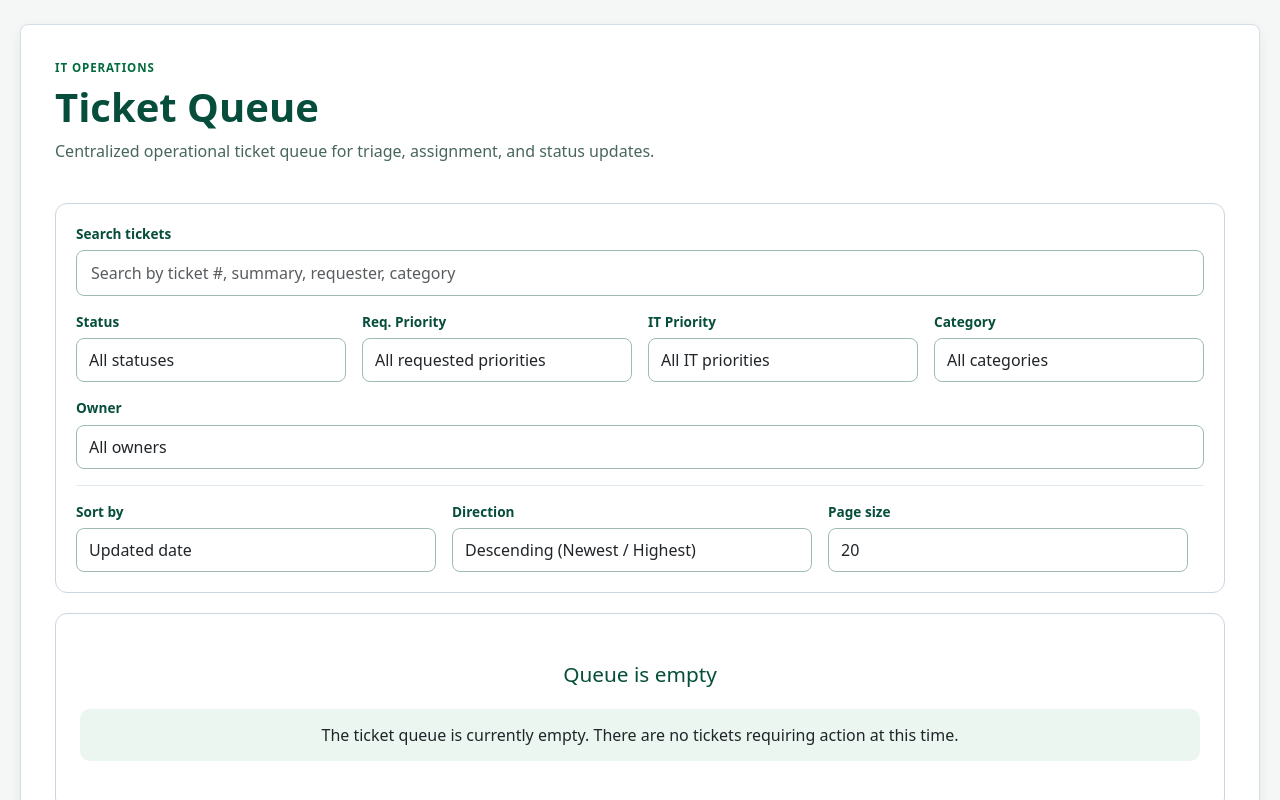
Test: UI-QUEUE-01: Staff Ticket Queue › renders no-results state with clear filters button when filters return 0 results
Type "nonexistent" into the search field labelled "Search tickets" at {"x": 640, "y": 273}, box [76,250,1204,296]
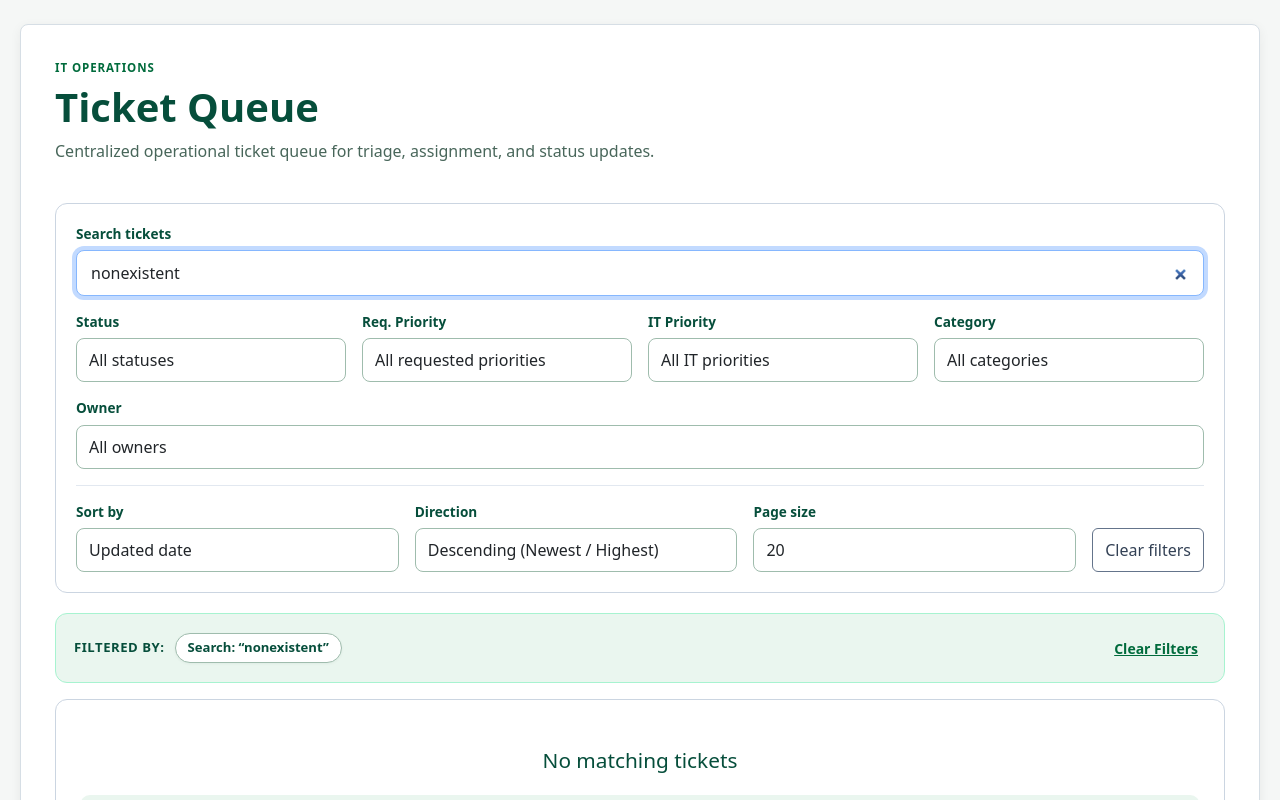
Expected: the button "Clear filters" is shown
Click the button "Clear filters" at {"x": 1148, "y": 550}, box [1092,528,1204,572]
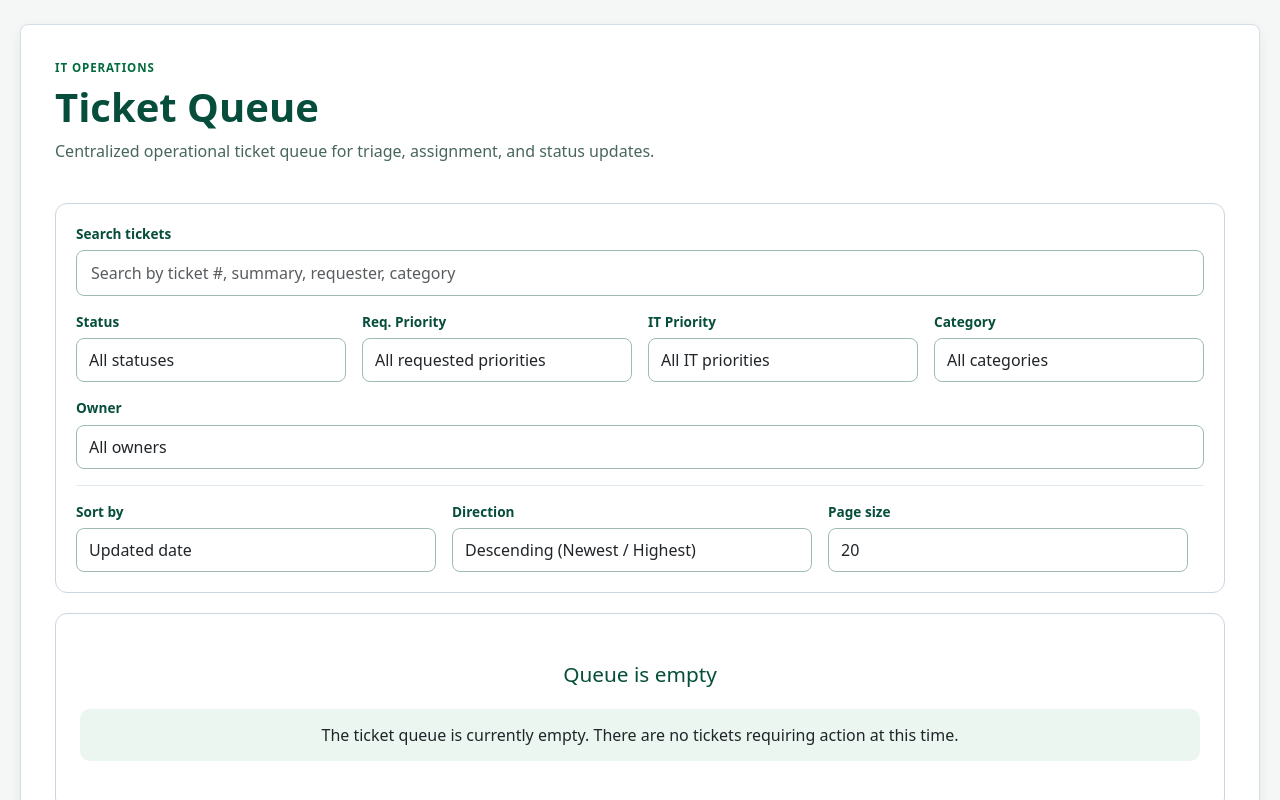
Expected: the search field labelled "Search tickets" is empty, [76,250,1204,296]
